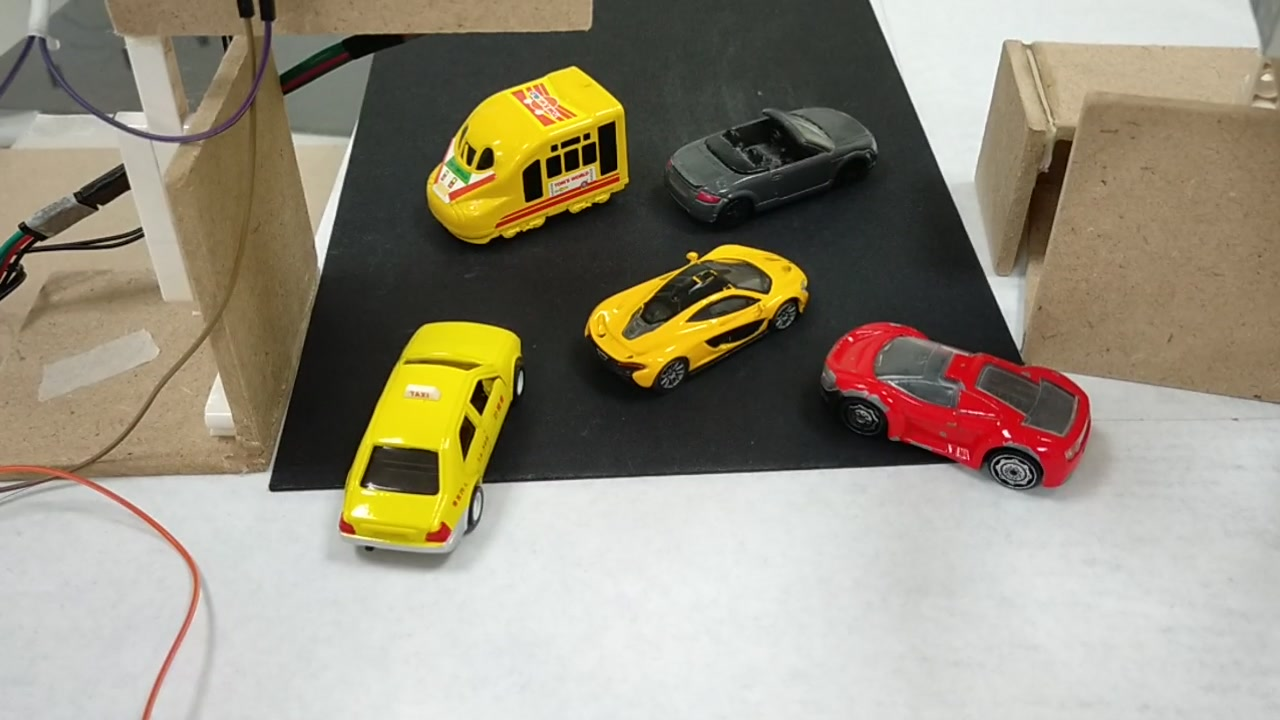car: (810, 318, 1091, 491), (341, 331, 530, 553), (586, 252, 799, 393), (662, 111, 880, 217)
